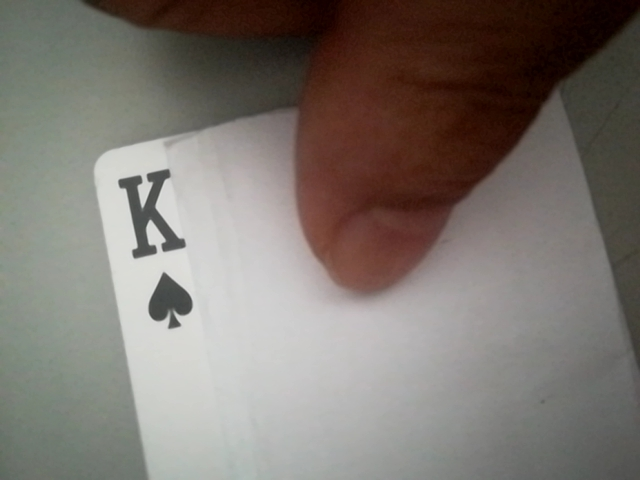ht k: (107, 152, 210, 342)
